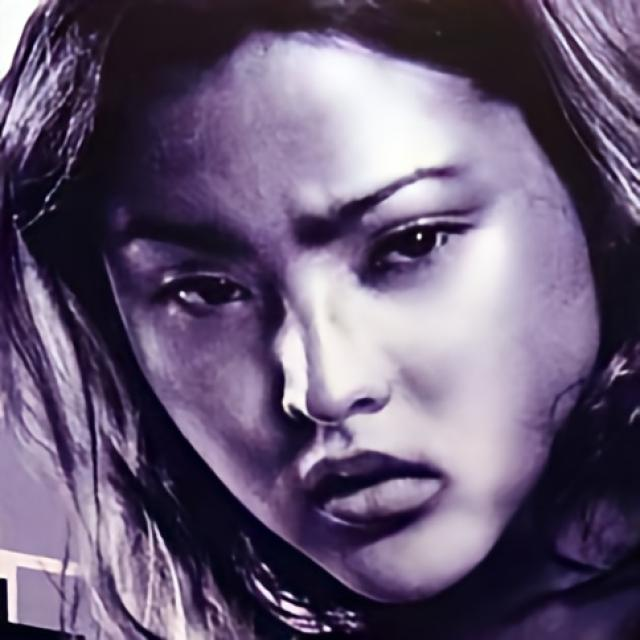sad: (105, 4, 602, 616)
